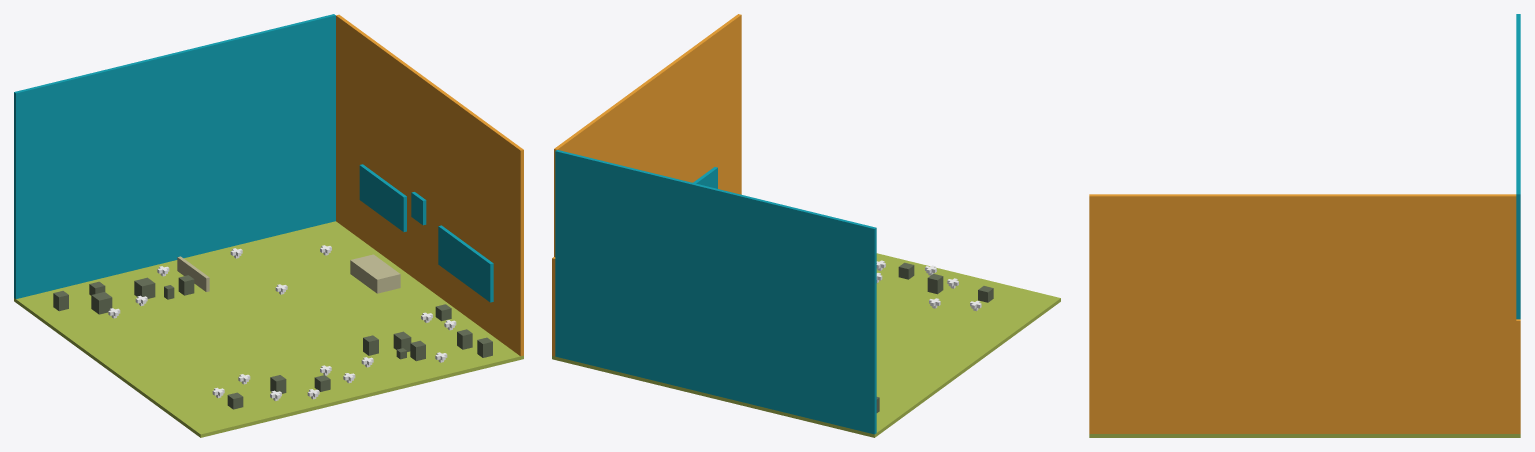
Rendered from monu9.obj.
The picture shows the model from 3 angles, left to right: view 1: azimuth 30°, elevation 25°; view 2: azimuth 150°, elevation 25°; view 3: azimuth 270°, elevation 25°; orthographic projection. The views are drawn at different scales.
Bounding box in the file's own units: 97 × 60 × 97.
1 material, 1 textured.
